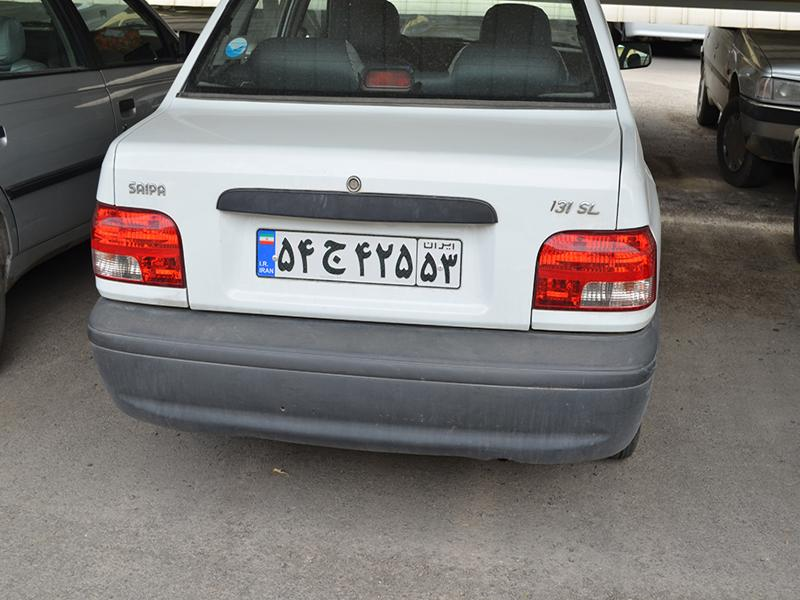Plate: (243, 216, 468, 299)
